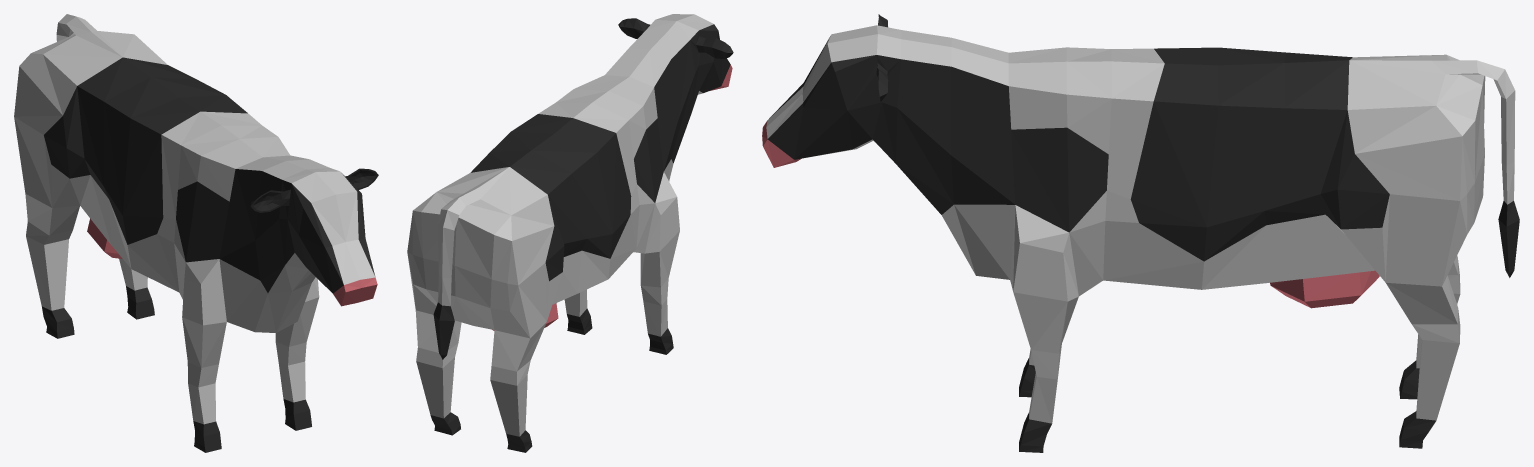
The model's file is cow.glb.
3 renders of one model, left to right at view 1: azimuth 30°, elevation 25°; view 2: azimuth 150°, elevation 25°; view 3: azimuth 270°, elevation 25°, orthographic. The views are drawn at different scales.
Parts seen in each view (by area): view 1: cow; view 2: cow; view 3: cow.
Part boxes in pixels (x1,y1,x2,y2): cow: [14, 14, 378, 452]; cow: [407, 14, 733, 452]; cow: [762, 14, 1519, 452].
Bounding box in the file's own units: 0.6385 × 1.45 × 2.58.
